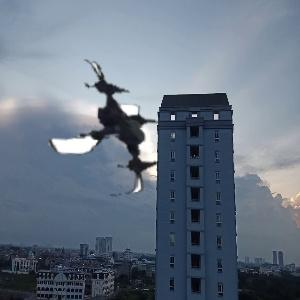drone: (42, 61, 179, 198)
